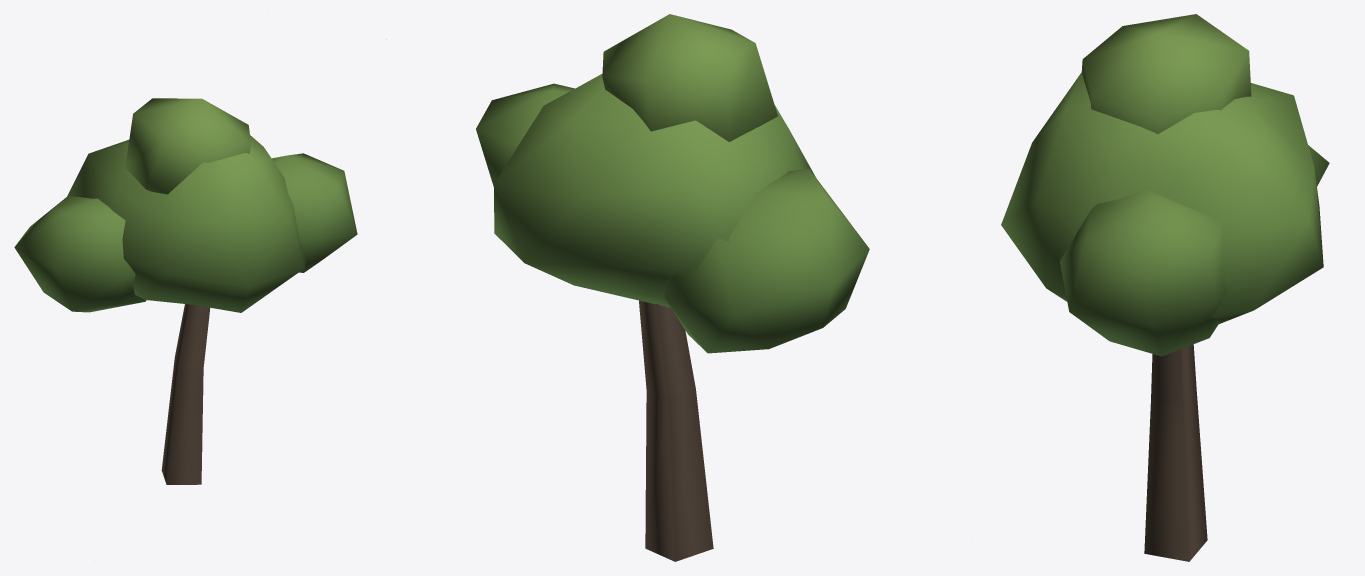
The model's file is FarLeafy2_leaf.glb.
3 views of the same model, side by side, from view 1: azimuth 30°, elevation 25°; view 2: azimuth 150°, elevation 25°; view 3: azimuth 270°, elevation 25° (orthographic). The views are drawn at different scales.
Parts seen in each view (by area): view 1: FarLeafy2_leaf; view 2: FarLeafy2_leaf; view 3: FarLeafy2_leaf.
Boxes of the visible parts, x1,y1,x2,y2 form: FarLeafy2_leaf: [14, 98, 357, 484]; FarLeafy2_leaf: [386, 14, 869, 561]; FarLeafy2_leaf: [1001, 14, 1329, 561].
Size of the model in its own units: 11.04 by 13.46 by 8.15.
